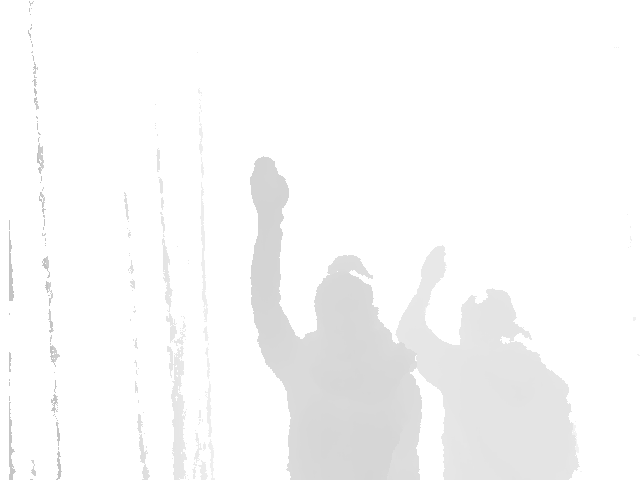hand: (248, 154, 292, 220), (416, 246, 448, 290)
head: (314, 256, 376, 334), (455, 291, 523, 350)
person: (246, 152, 424, 480), (397, 245, 582, 480)
